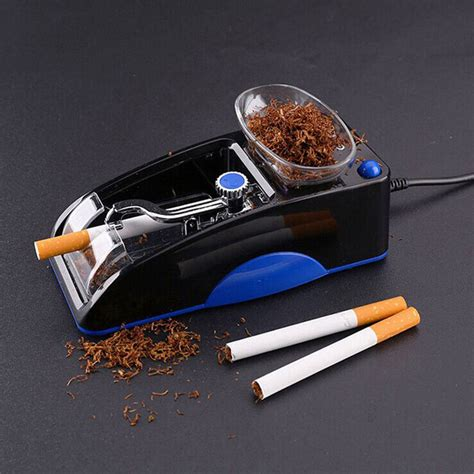cigarette: (252, 307, 420, 403), (220, 295, 407, 362), (33, 210, 183, 262)
